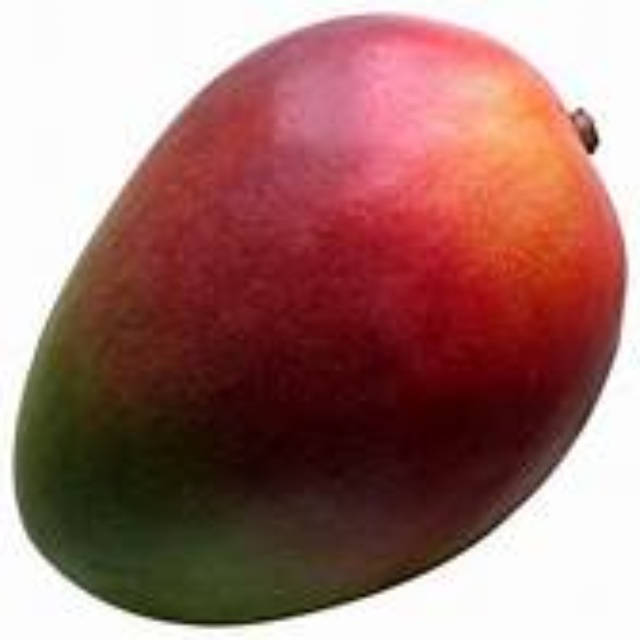mango: (18, 12, 631, 628)
